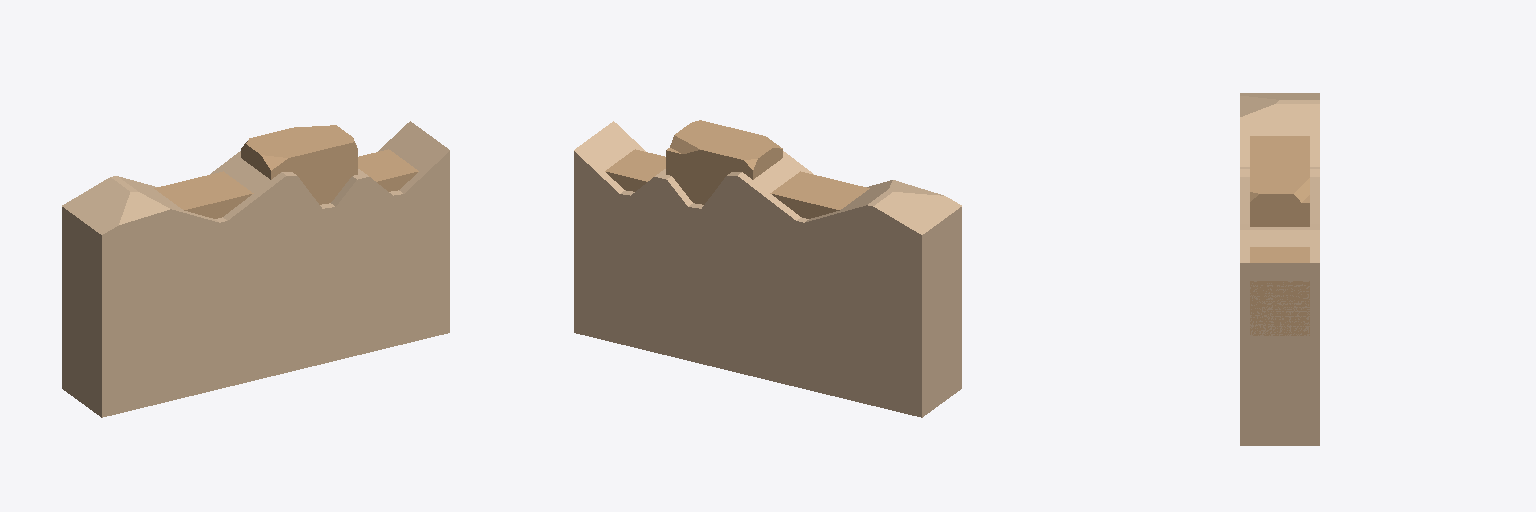
Rendered from Wall_Ruined_Half_2.obj.
3 views of the same model, side by side, from view 1: azimuth 30°, elevation 25°; view 2: azimuth 150°, elevation 25°; view 3: azimuth 270°, elevation 25° (orthographic).
Parts seen in each view (by area): view 1: object3, object4, object1, object2; view 2: object3, object4, object1, object2; view 3: object3, object4, object2, object1.
Part boxes in pixels (x1,y1,x2,y2): object3: (62, 121, 449, 417); object4: (241, 125, 357, 204); object1: (154, 171, 253, 218); object2: (358, 149, 418, 191); object3: (574, 121, 961, 417); object4: (666, 120, 782, 204); object1: (770, 171, 869, 218); object2: (605, 149, 665, 191); object3: (1240, 93, 1319, 445); object4: (1250, 151, 1309, 226); object2: (1250, 247, 1309, 335); object1: (1250, 136, 1309, 159).
Size of the model in its own units: 1 by 0.5734 by 0.2.